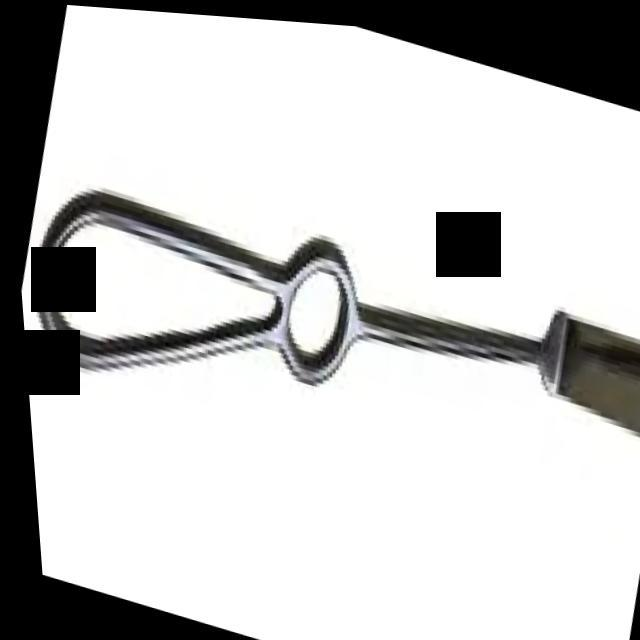Langenbach Retractor: (8, 137, 640, 539)
